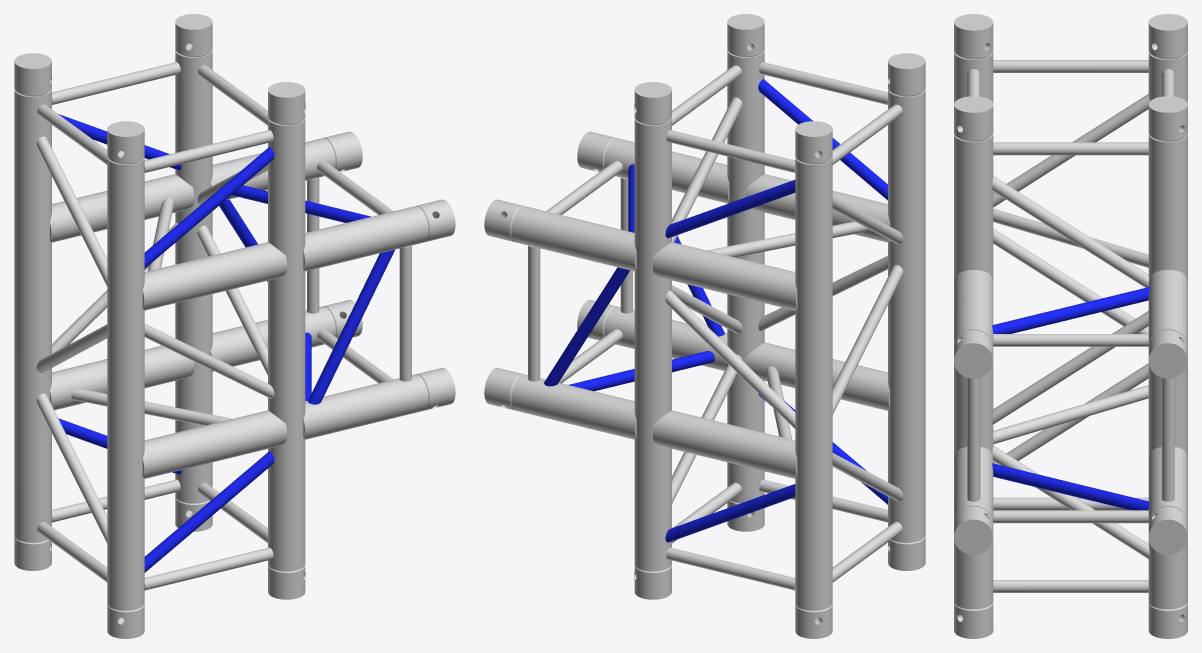
The picture shows the model from 3 angles, left to right: view 1: azimuth 30°, elevation 25°; view 2: azimuth 150°, elevation 25°; view 3: azimuth 270°, elevation 25°; orthographic projection. The views are drawn at different scales.
Parts seen in each view (by area): view 1: 260029179; view 2: 260029179; view 3: 260029179.
Boxes of the visible parts, left/top/right/bottom form: 260029179: left=14, top=14, right=455, bottom=638; 260029179: left=484, top=14, right=925, bottom=638; 260029179: left=954, top=14, right=1187, bottom=638.
Size of the model in its own units: 0.5001 by 0.713 by 0.2873.
